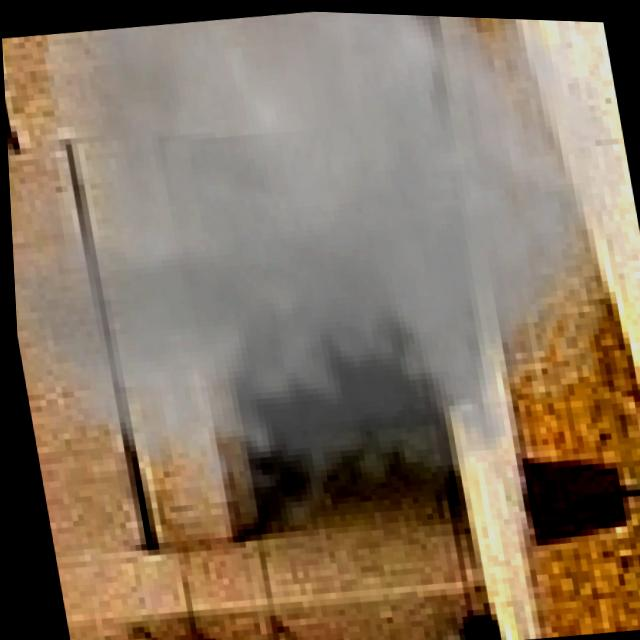smoke: (0, 0, 640, 597)
